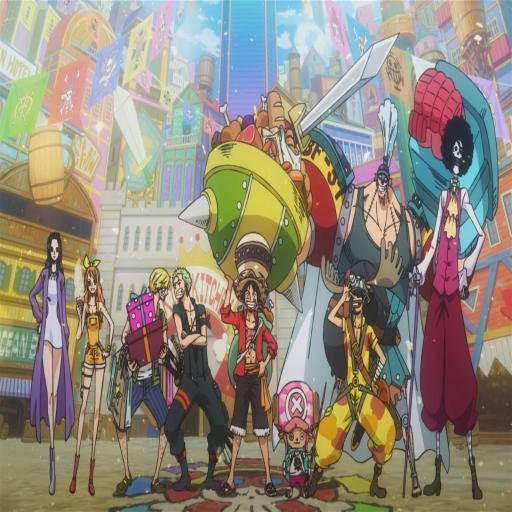Luffy: (216, 277, 282, 507)
Nami: (54, 244, 118, 500)
NicoRobin: (26, 225, 74, 502)
Usopp: (309, 241, 405, 497)
Zoro: (163, 263, 222, 510)
sanji: (114, 256, 172, 491)
